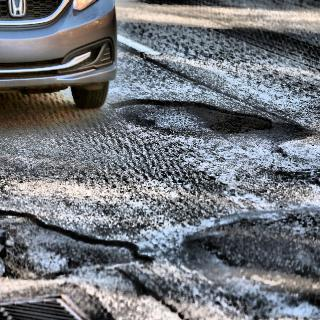pothole: (1, 207, 153, 283), (110, 90, 274, 144)
